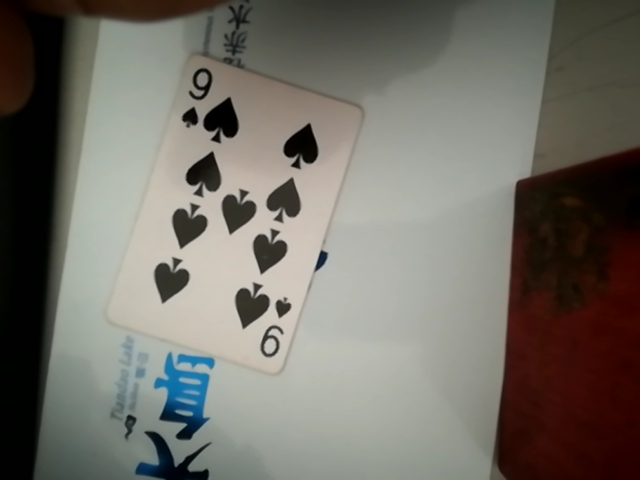ht 9: (115, 23, 359, 376)
